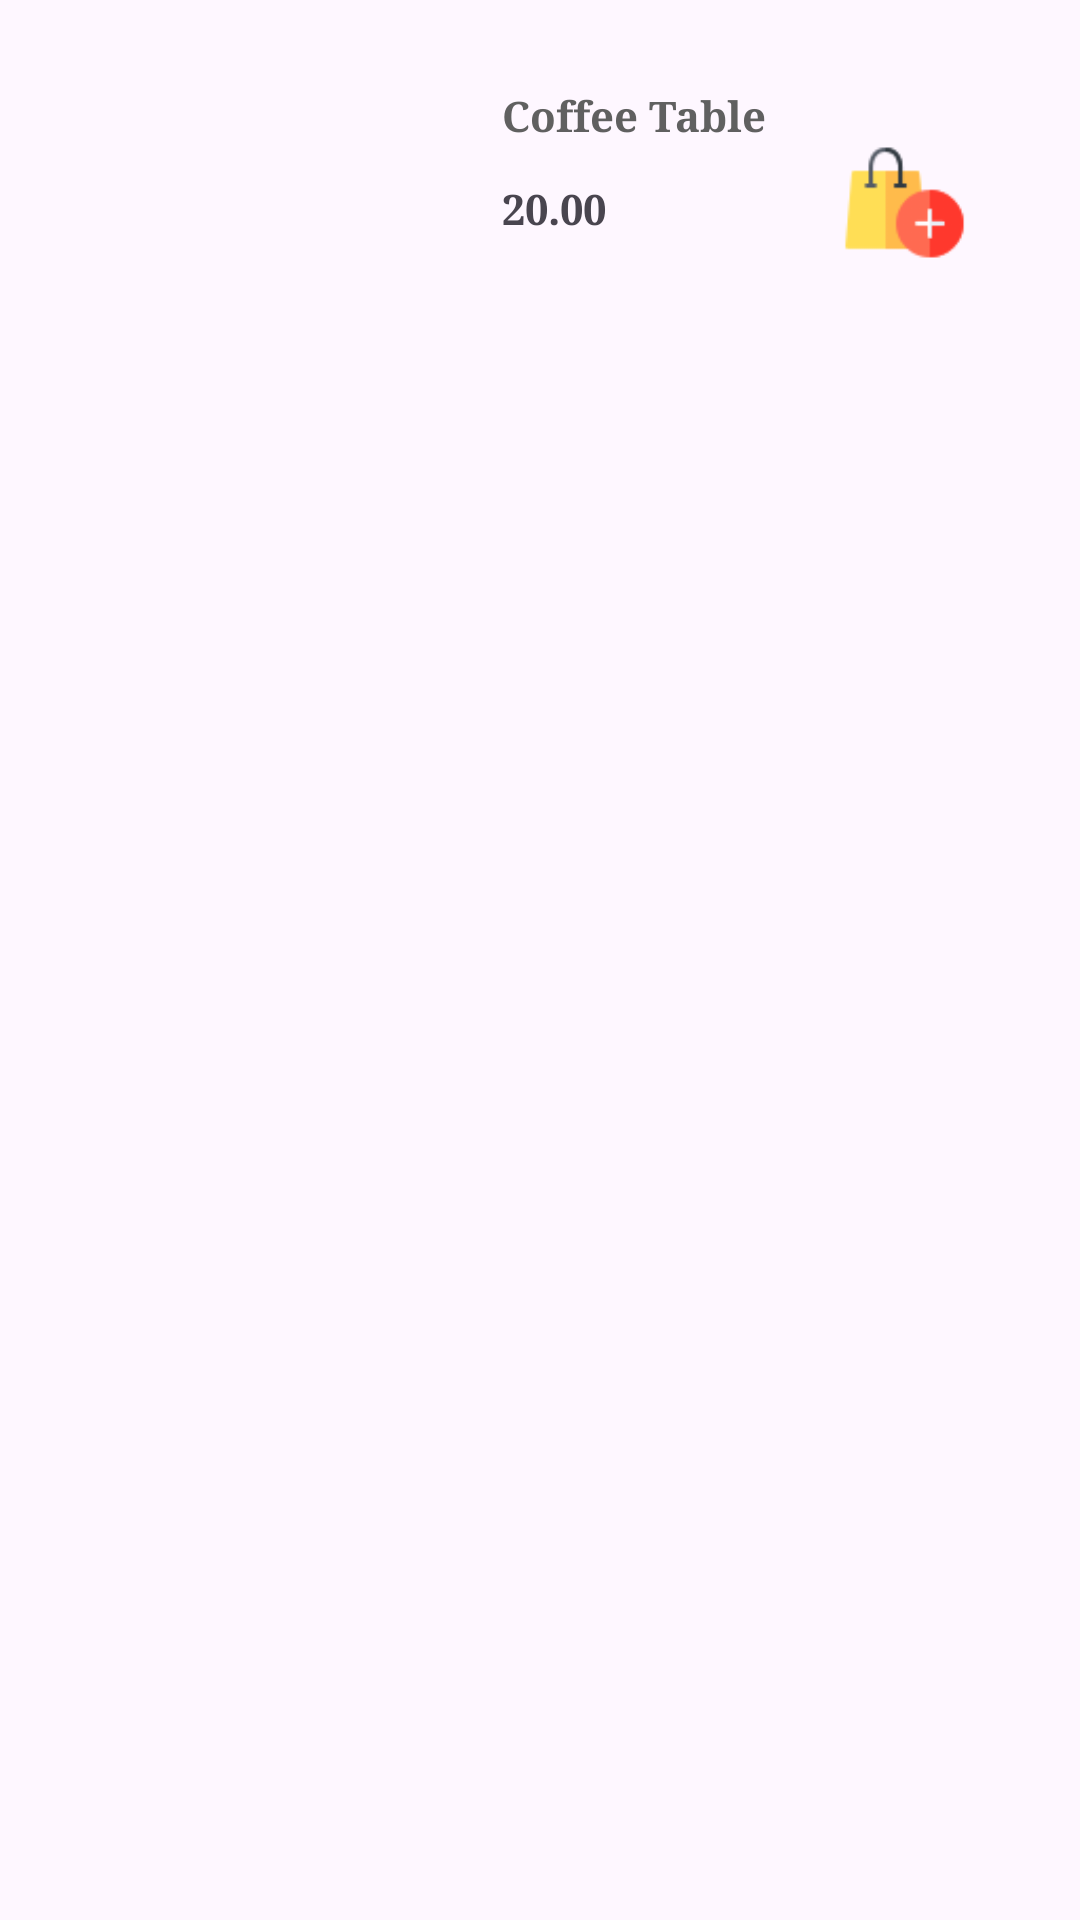

Icon bounding boxes for this 1080px x 1920px phone screenshot, format (x1, y1, x2, y2):
addtocart: (845, 147, 964, 258)
